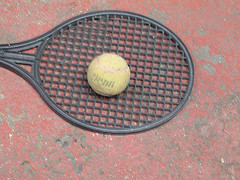tennis ball: (86, 52, 132, 97)
